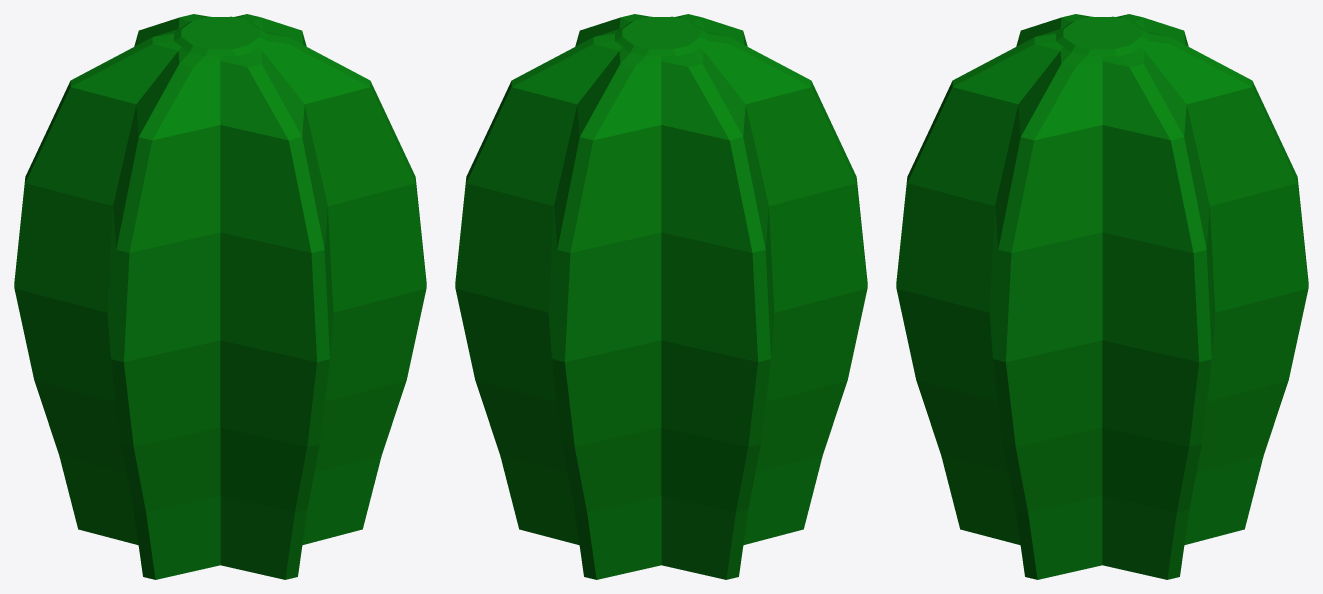
File: Cactus2.fbx
3 views of the same model, side by side, from view 1: azimuth 30°, elevation 25°; view 2: azimuth 150°, elevation 25°; view 3: azimuth 270°, elevation 25° (orthographic).
Visible parts, largest first — view 1: Circle.001; view 2: Circle.001; view 3: Circle.001.
Part boxes in pixels (x1,y1,x2,y2): Circle.001: [14, 14, 426, 579]; Circle.001: [455, 14, 867, 579]; Circle.001: [896, 14, 1308, 579].
Bounding box in the file's own units: 210 × 314 × 238.
